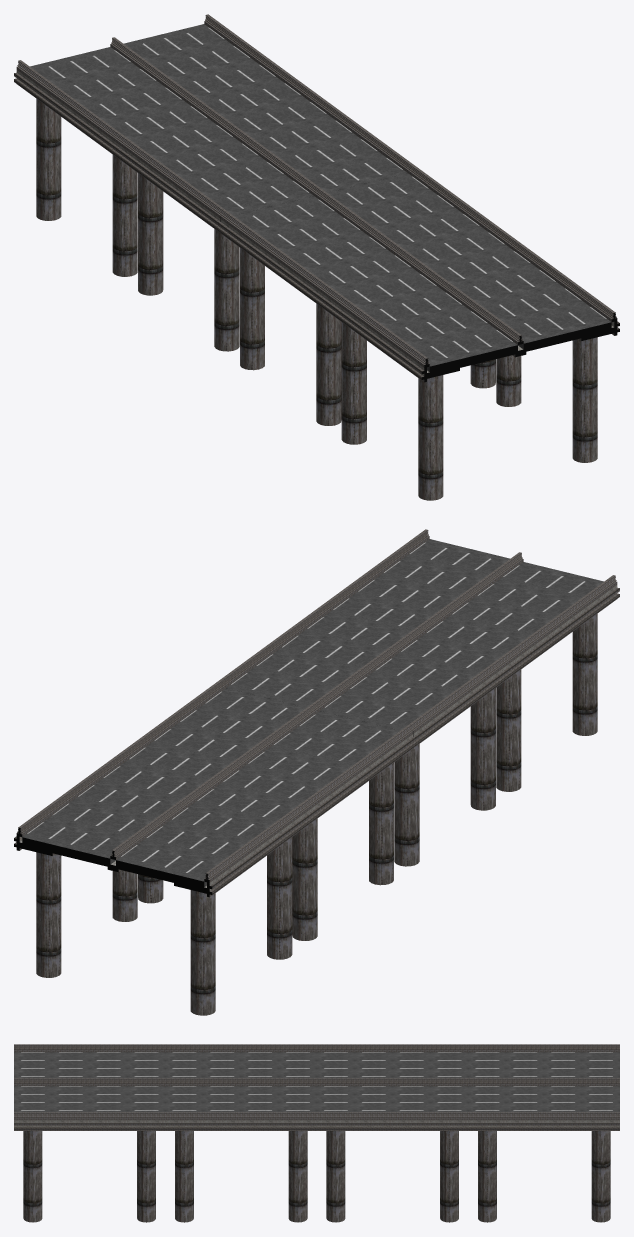
Rendered from HighwayStraightLong_high.fbx.
3 views of the same model, one above another, from view 1: azimuth 30°, elevation 25°; view 2: azimuth 150°, elevation 25°; view 3: azimuth 270°, elevation 25° (orthographic). The views are drawn at different scales.
Visible parts, largest first — view 1: materialD150, materialA150, materialB150, materialC150; view 2: materialD150, materialA150, materialB150, materialC150; view 3: materialA150, materialD150, materialC150.
Boxes of the visible parts, x1,y1,x2,y2 form: materialD150: (30, 24, 611, 371); materialA150: (14, 14, 619, 500); materialB150: (220, 216, 619, 382); materialC150: (16, 70, 614, 376); materialD150: (22, 539, 603, 886); materialA150: (14, 529, 619, 1015); materialB150: (14, 731, 413, 897); materialC150: (19, 585, 617, 891); materialA150: (14, 1044, 619, 1222); materialD150: (14, 1052, 619, 1112); materialC150: (14, 1120, 619, 1126).
Bounding box in the file's own units: 57.6 × 41.6 × 205.
